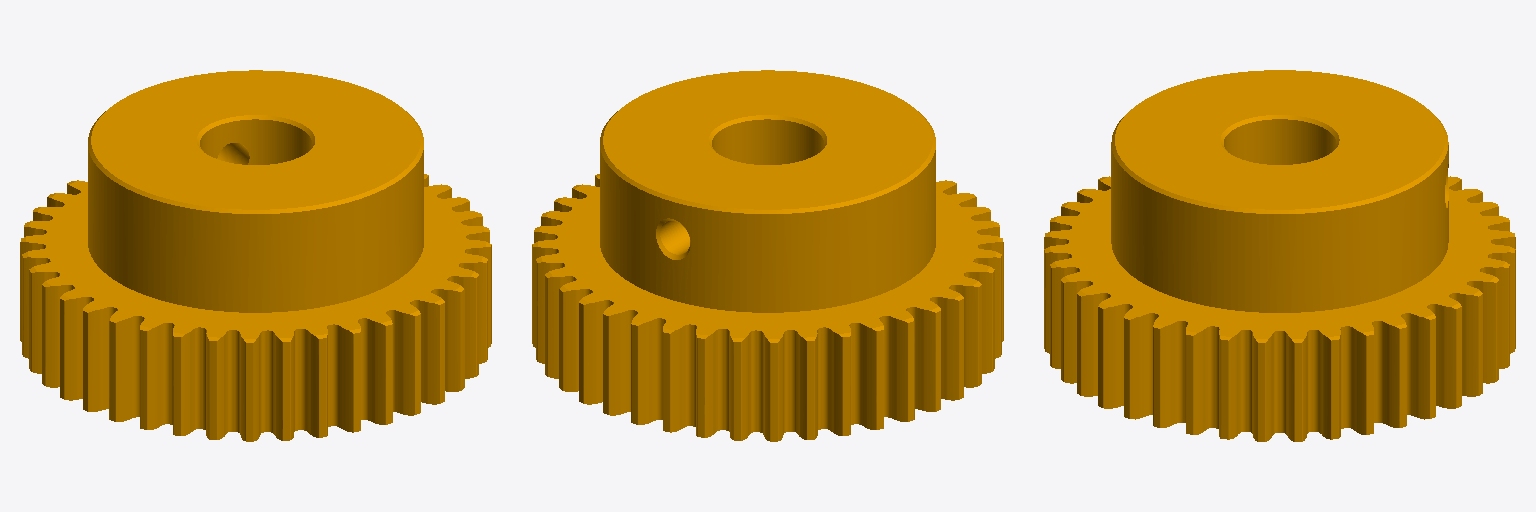
robot.urdf — factory_gear_medium:
<?xml version="1.0"?>
<robot name="factory_gear_medium">
    <link name="factory_gear_medium">
        <visual>
            <geometry>
                <mesh filename="../mesh/factory_gears/factory_gear_medium_space_5e-4.obj"/>
            </geometry>
        </visual>
        <collision>
            <geometry>
                <mesh filename="../mesh/factory_gears/factory_gear_medium_space_5e-4.obj"/>
            </geometry>
            <sdf resolution="256"/>
        </collision>
    </link>
</robot>

--- Facts derived from the render (not from the file) ---
3 views of the same robot in one strip: view 1: azimuth 30°, elevation 25°; view 2: azimuth 150°, elevation 25°; view 3: azimuth 270°, elevation 25° (orthographic).
Model factory_gear_medium with 1 links and 0 joints (none), rooted at factory_gear_medium, posed all joints at 0.
Visible links, largest first — view 1: factory_gear_medium; view 2: factory_gear_medium; view 3: factory_gear_medium.
Link boxes in pixels (box(x1,y1,x2,y2)): factory_gear_medium: box(20, 70, 491, 441); factory_gear_medium: box(532, 70, 1003, 441); factory_gear_medium: box(1044, 70, 1515, 441).
Bounding box of the posed robot: 0.0419 × 0.0419 × 0.02 m (x, y, z).
1 mesh visuals loaded from 1 distinct referenced files (1 OBJ).